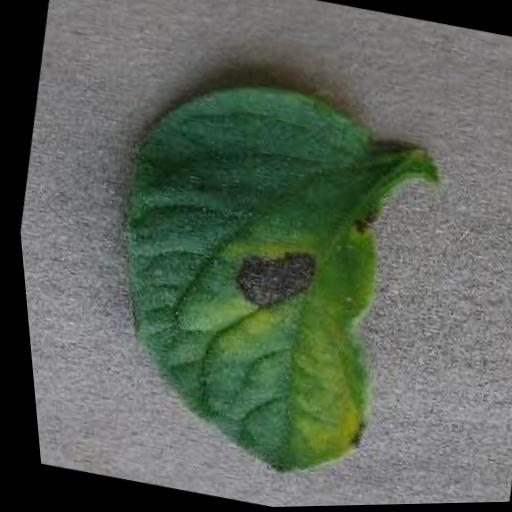Early Blight: (55, 52, 467, 506)
